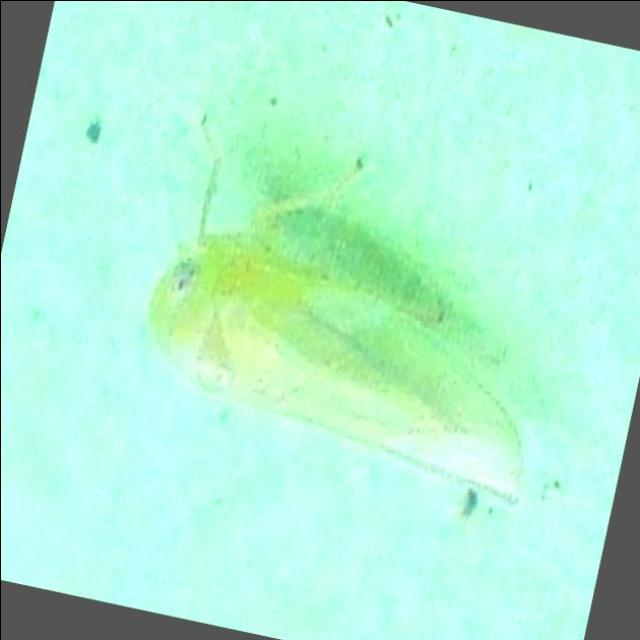green leaf hopper: (149, 159, 520, 503)
